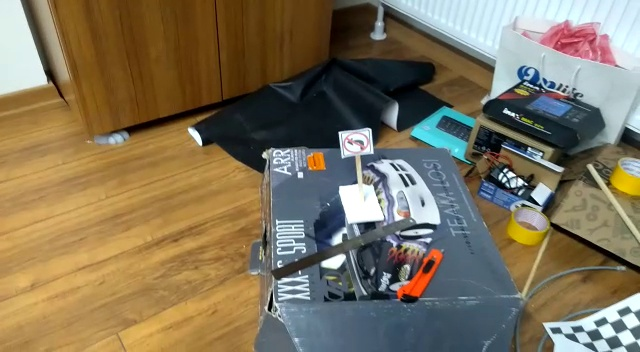sola_donulmez: (342, 131, 370, 158)
